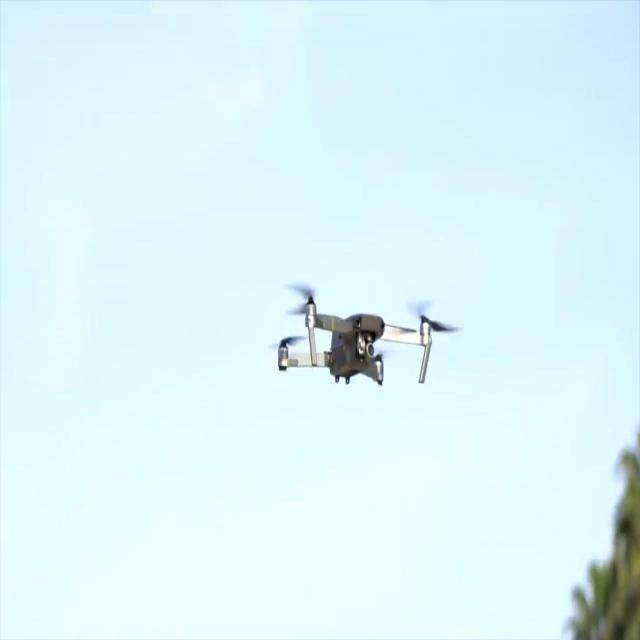UAV: (270, 283, 462, 387)
